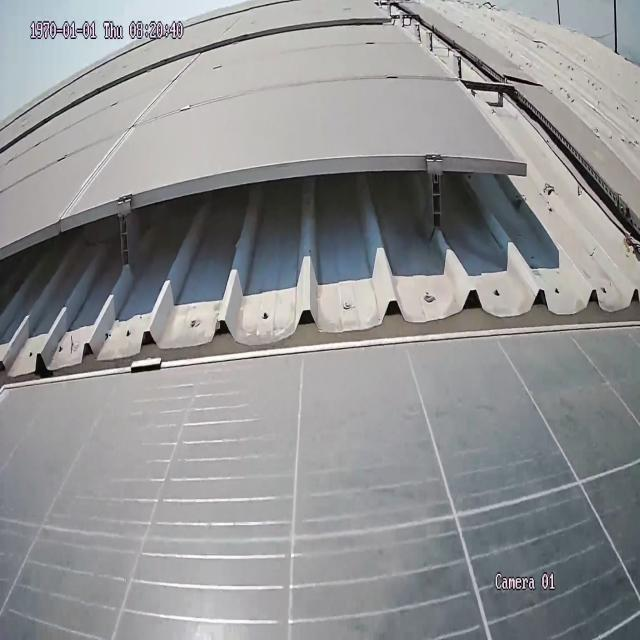interior panel: (71, 63, 187, 197)
outher panel: (3, 2, 640, 378)
